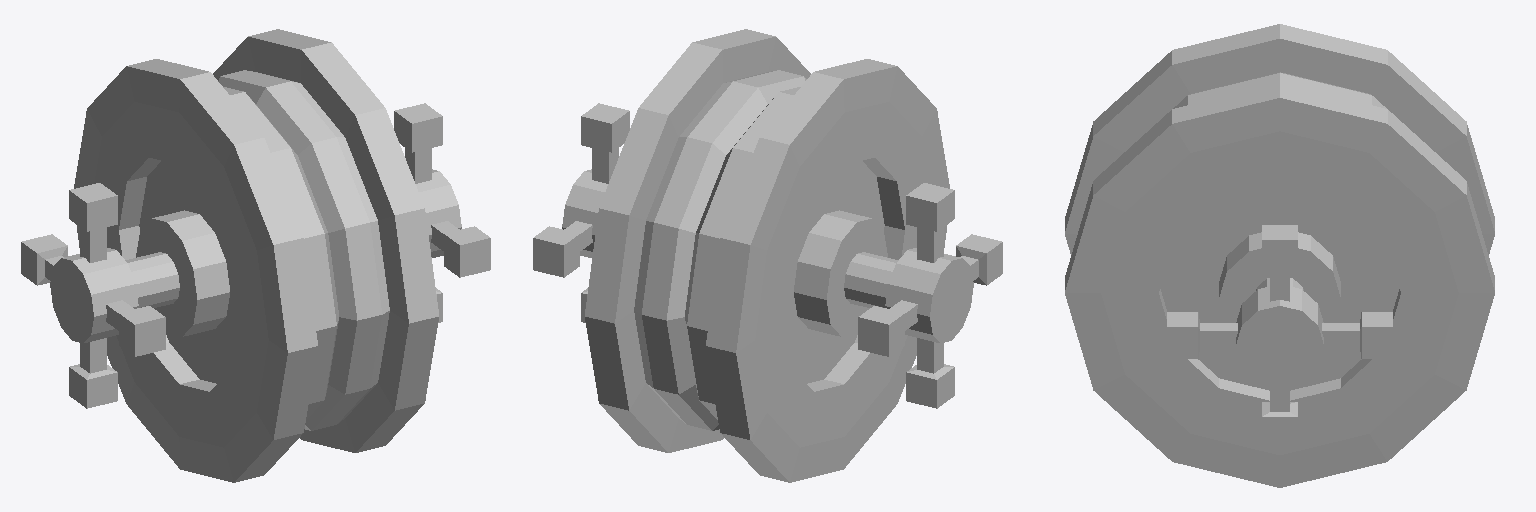
File: RopeWinchA.obj
3 renders of one model, left to right at view 1: azimuth 30°, elevation 25°; view 2: azimuth 150°, elevation 25°; view 3: azimuth 270°, elevation 25°, orthographic.
Parts seen in each view (by area): view 1: Vis_Vis.003; view 2: Vis_Vis.003; view 3: Vis_Vis.003.
Part boxes in pixels (x1,y1,x2,y2): Vis_Vis.003: (21,29,490,482); Vis_Vis.003: (533,29,1002,482); Vis_Vis.003: (1065,24,1494,487).
Bounding box in the file's own units: 2.37 × 2.41 × 2.41.